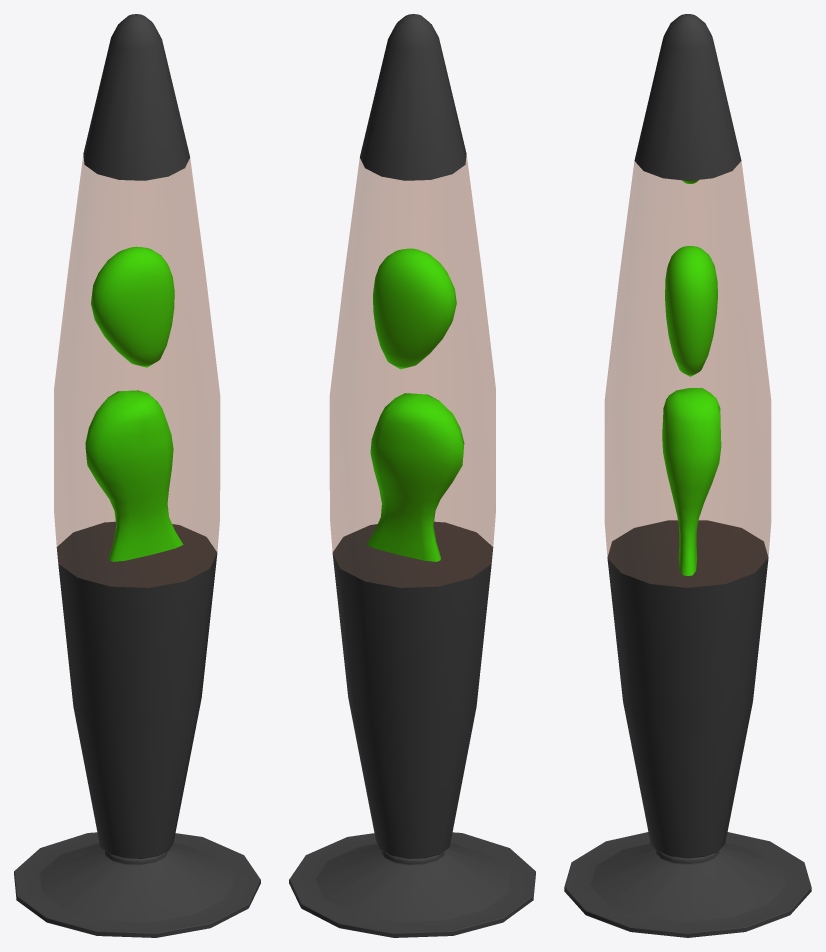
Rendered from Lava lamp.FBX.
3 renders of one model, left to right at view 1: azimuth 30°, elevation 25°; view 2: azimuth 150°, elevation 25°; view 3: azimuth 270°, elevation 25°, orthographic.
Visible parts, largest first — view 1: lava lamp, substance; view 2: lava lamp, substance; view 3: lava lamp, substance.
Boxes of the visible parts, box(x1,y1,x2,y2) form: lava lamp: box(14, 14, 260, 937); substance: box(85, 246, 183, 561); lava lamp: box(289, 14, 535, 937); substance: box(366, 248, 464, 561); lava lamp: box(564, 14, 811, 937); substance: box(662, 180, 721, 575).
Size of the model in its own units: 266 by 268 by 1041.
